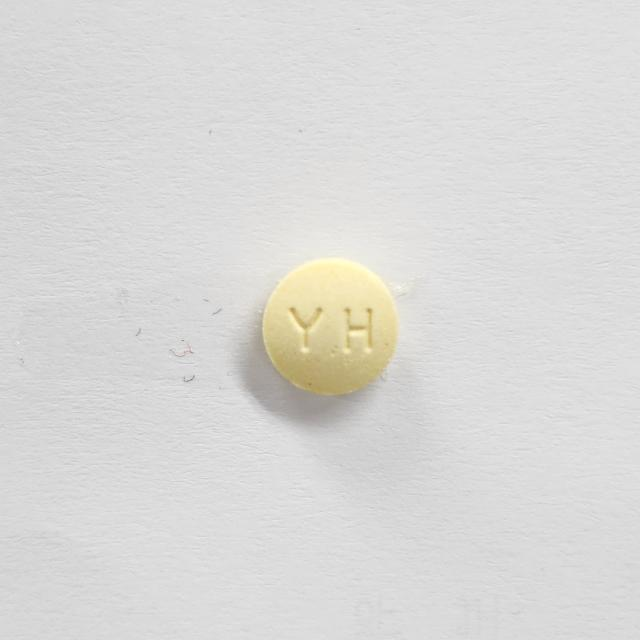pill: (252, 249, 403, 403)
